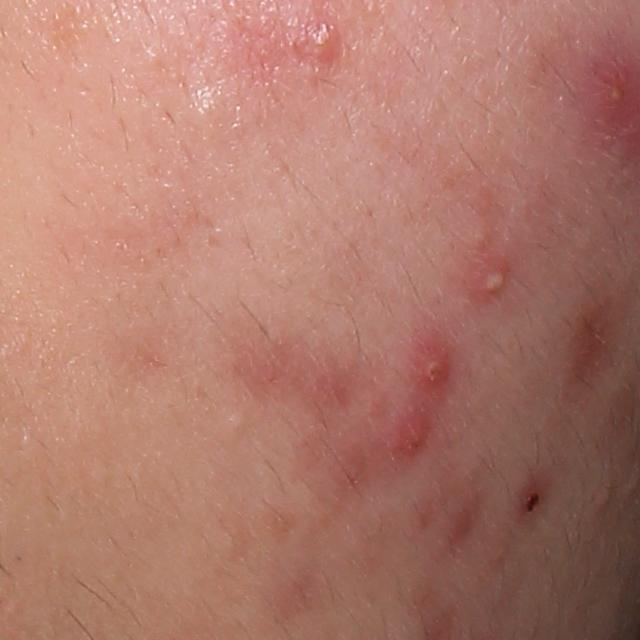comedo: (220, 410, 247, 443)
papule: (298, 16, 345, 72)
pustule: (594, 68, 636, 118), (475, 261, 514, 298)
